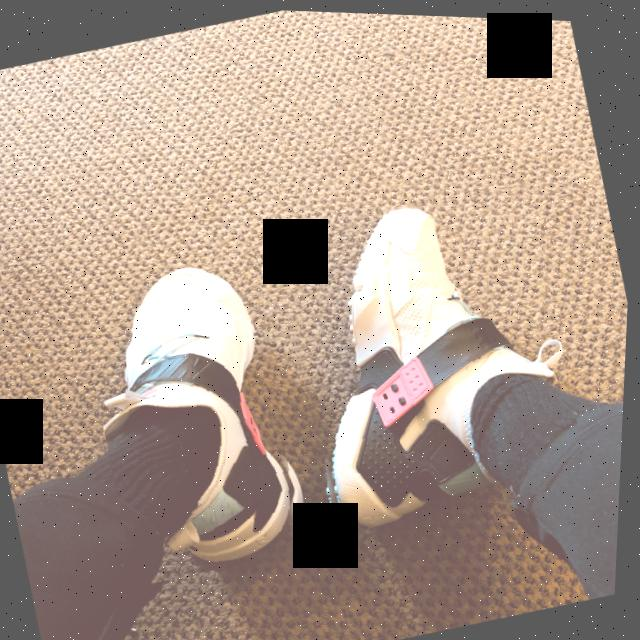shoe: (260, 166, 603, 541), (68, 246, 332, 591)
